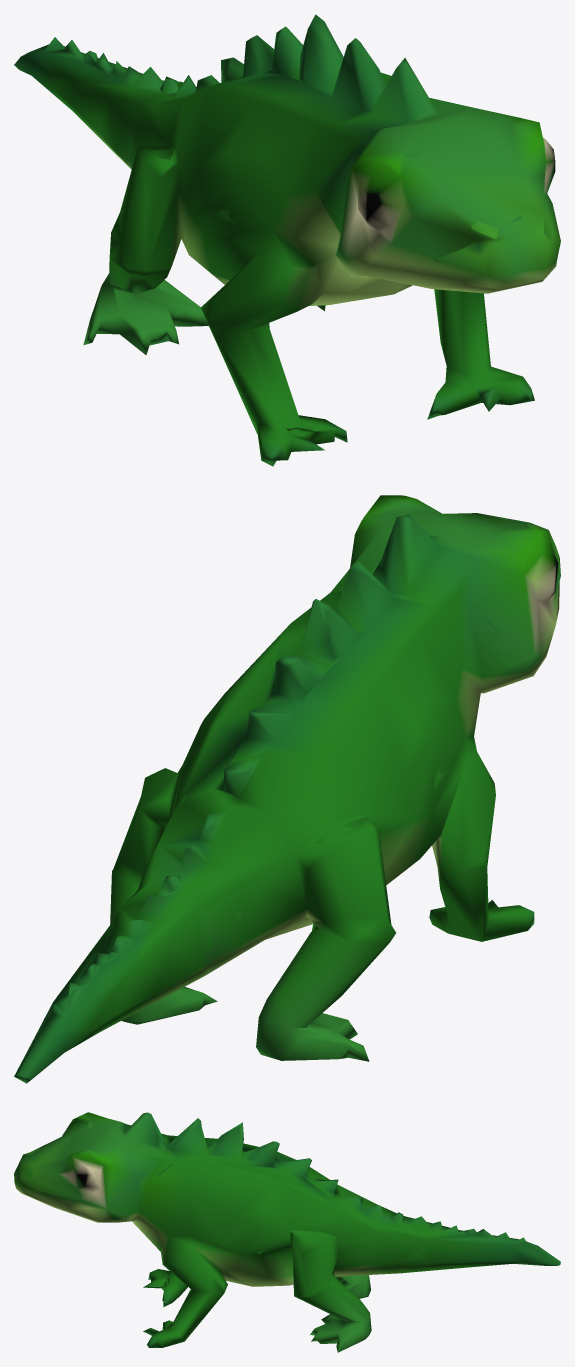
File: gen3d-iguana-lod1.glb
3 views of the same model, one above another, from view 1: azimuth 30°, elevation 25°; view 2: azimuth 150°, elevation 25°; view 3: azimuth 270°, elevation 25° (orthographic). The views are drawn at different scales.
Visible parts, largest first — view 1: part_0; view 2: part_0; view 3: part_0.
Part boxes in pixels (left/top/right/bottom): part_0: left=14, top=14, right=560, bottom=466; part_0: left=14, top=495, right=560, bottom=1083; part_0: left=14, top=1112, right=560, bottom=1352.
Size of the model in its own units: 0.7696 by 0.9897 by 2.38.
